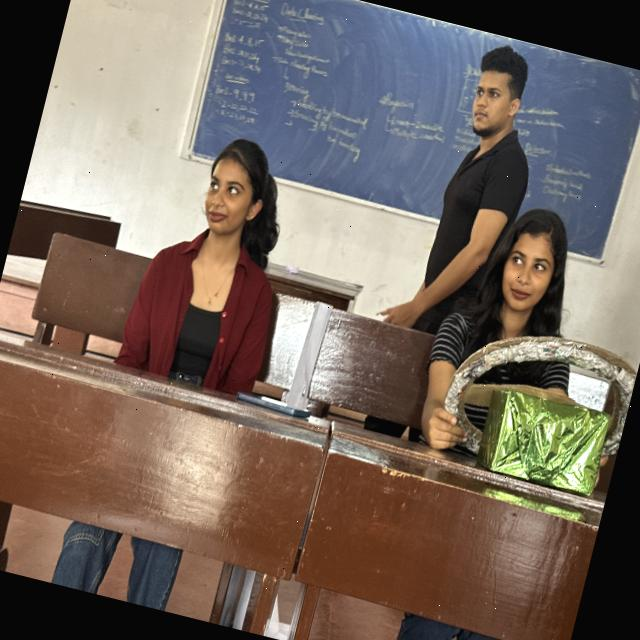no-seatbelt: (92, 188, 346, 436), (391, 276, 621, 494)
